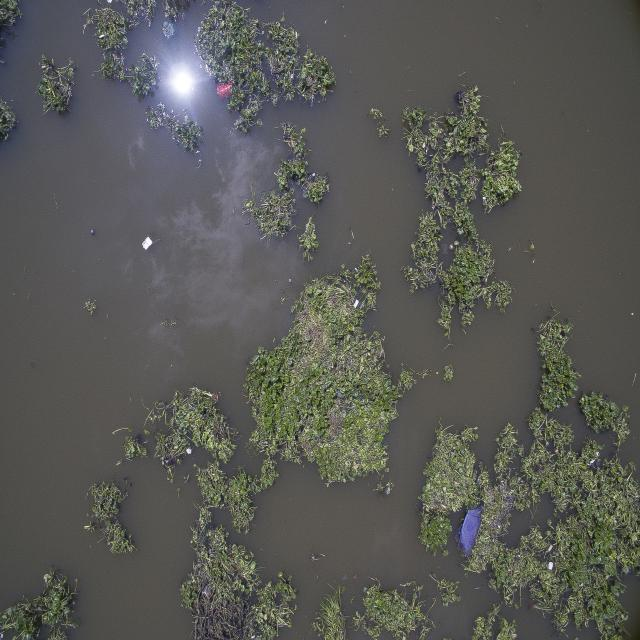plastic: (451, 502, 492, 562), (212, 69, 243, 109), (140, 232, 164, 260)
